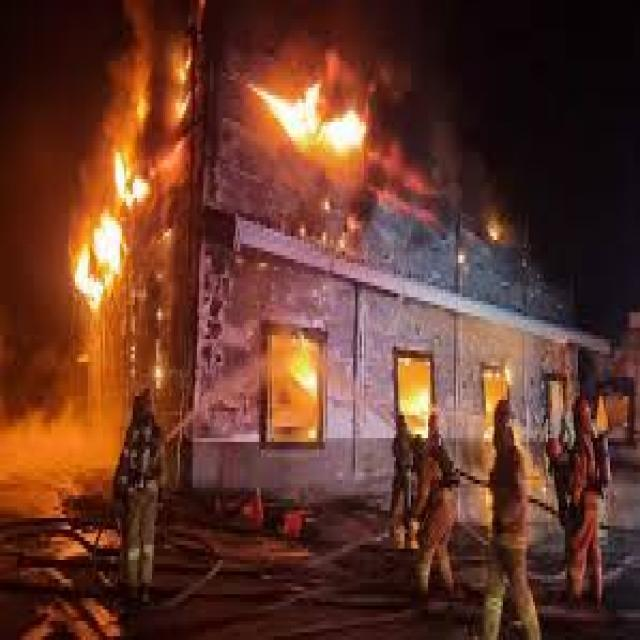Fire: (72, 126, 155, 332), (252, 68, 374, 158), (73, 184, 134, 323), (110, 142, 150, 208), (169, 46, 194, 124), (482, 208, 509, 242)
Smoke: (0, 2, 76, 228), (94, 1, 172, 146)
